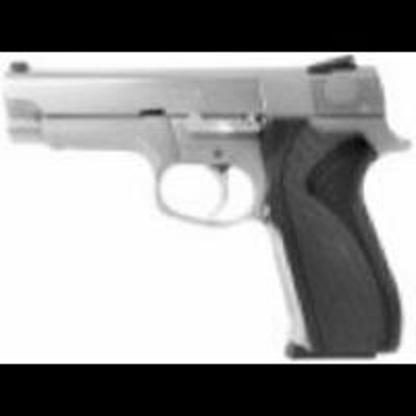weapon: (7, 58, 410, 361)
